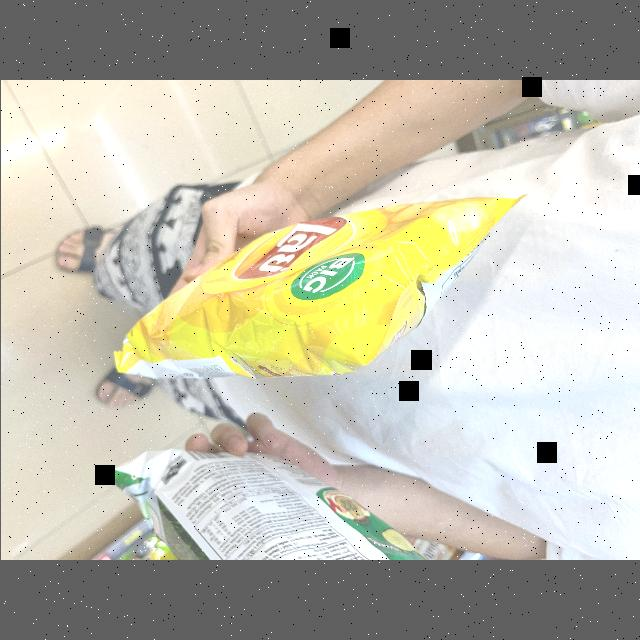snack_bag: (107, 182, 526, 380), (112, 432, 428, 560)
